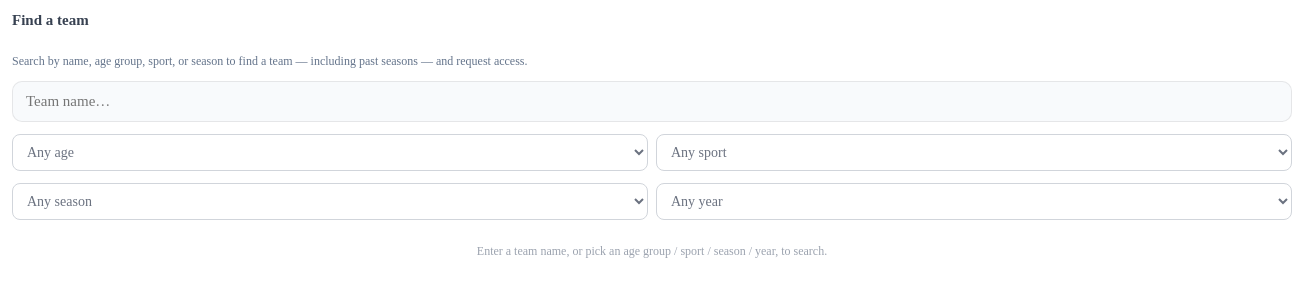
Scenario: TeamSearch — season and year filters › result card combines season + 2-digit year instead of the raw year when season is present
In the search field labelled "Team name…": (652, 101) [12,81,1292,122], type "Mud"
Wait 400 ms
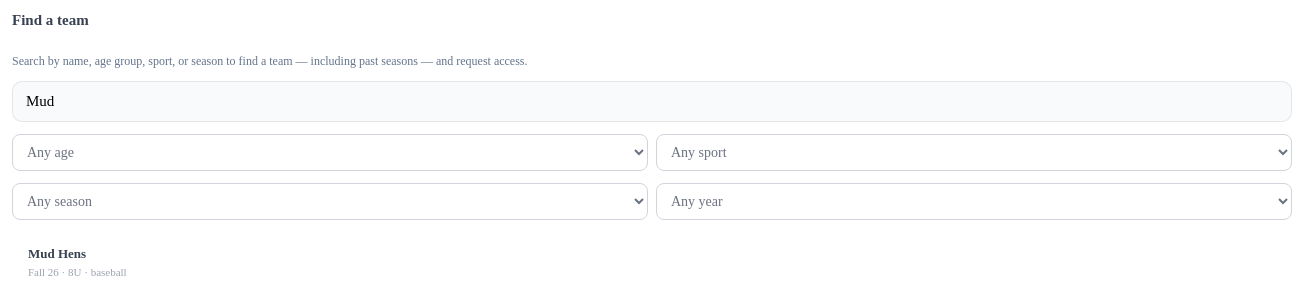
Now the text "Fall 26 · 8U · baseball" is shown, box [28,266,127,278]
